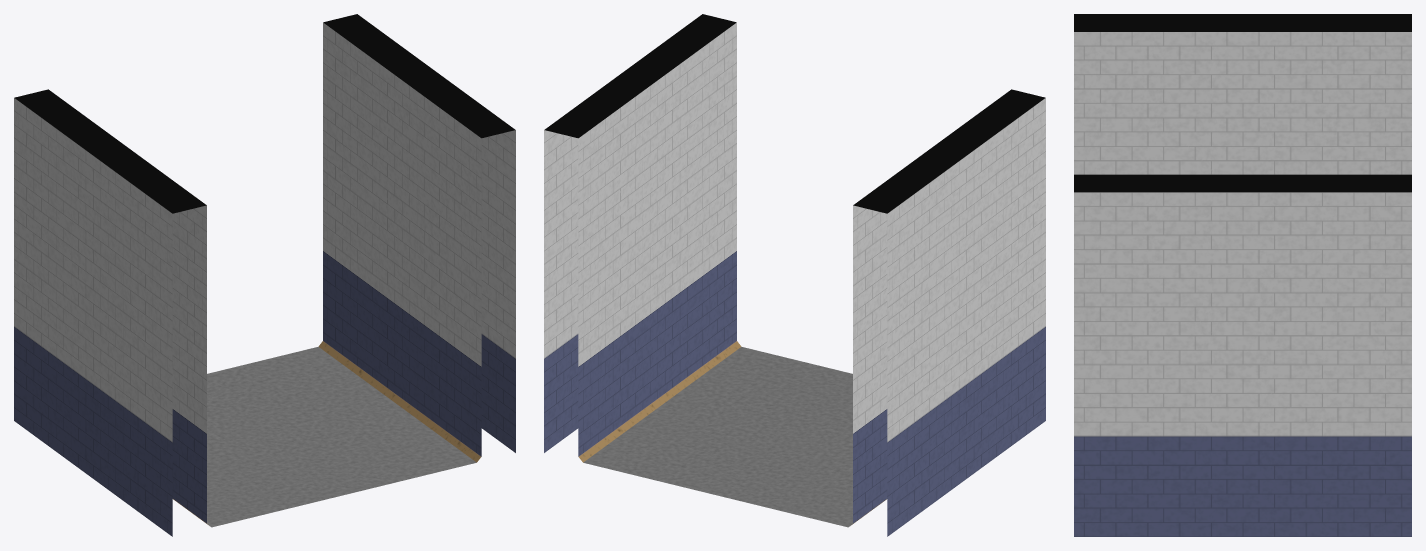
Rendered from hallway.glb.
3 views of the same model, side by side, from view 1: azimuth 30°, elevation 25°; view 2: azimuth 150°, elevation 25°; view 3: azimuth 270°, elevation 25° (orthographic). The views are drawn at different scales.
Parts seen in each view (by area): view 1: basic_hallway.001; view 2: basic_hallway.001; view 3: basic_hallway.001.
Part boxes in pixels (x1=…): basic_hallway.001: x1=14, y1=14, x2=515, y2=536; basic_hallway.001: x1=544, y1=14, x2=1045, y2=536; basic_hallway.001: x1=1074, y1=14, x2=1411, y2=536.
Size of the model in its own units: 10 by 9 by 8.
Materials: 1 (1 with a texture image).
